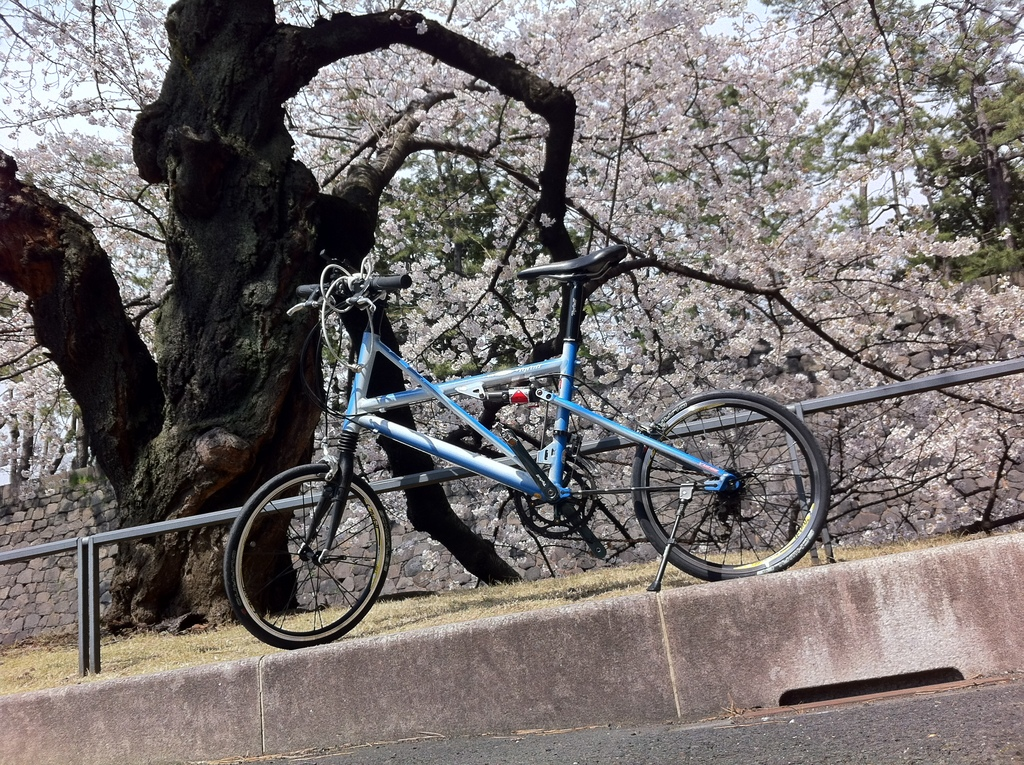Bicycle: (224, 249, 832, 648)
